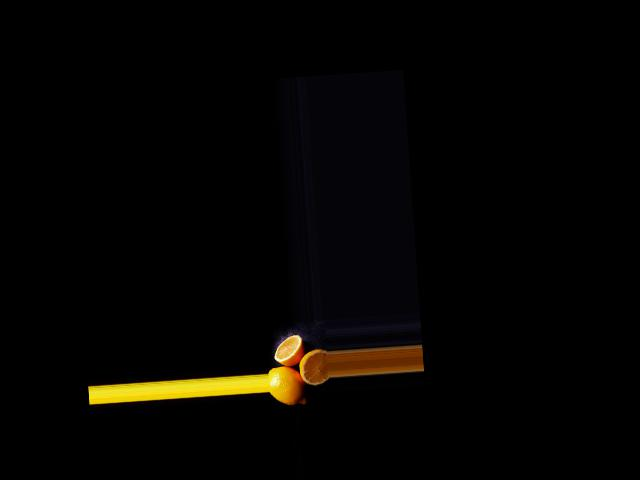lemon: (268, 362, 307, 409)
